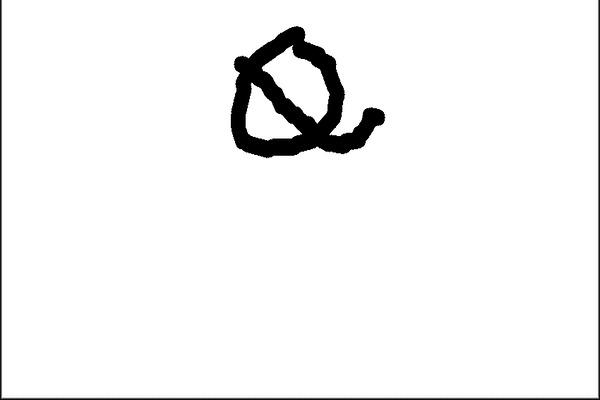Q: (209, 14, 397, 182)
